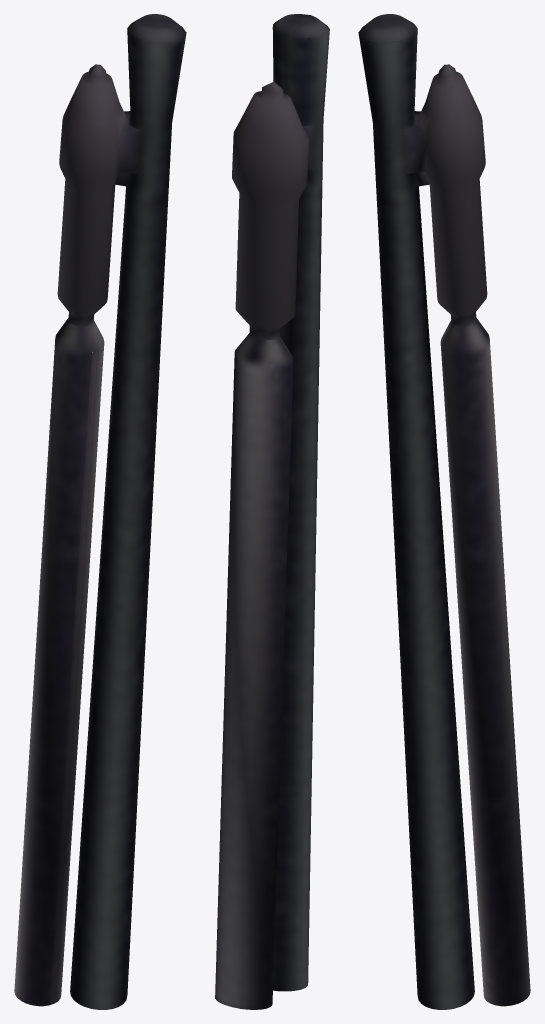
File: Shotgun_PSX_Barrel.fbx
3 views of the same model, side by side, from view 1: azimuth 90°, elevation 25°; view 2: azimuth 150°, elevation 25°; view 3: azimuth 270°, elevation 25° (orthographic). The views are drawn at different scales.
Visible parts, largest first — view 1: Barrel; view 2: Barrel; view 3: Barrel.
Part boxes in pixels (bbox=[...]): Barrel: bbox=[14, 14, 186, 1009]; Barrel: bbox=[215, 14, 329, 1009]; Barrel: bbox=[358, 14, 530, 1009].
Size of the model in its own units: 39.06 by 510 by 81.66.
